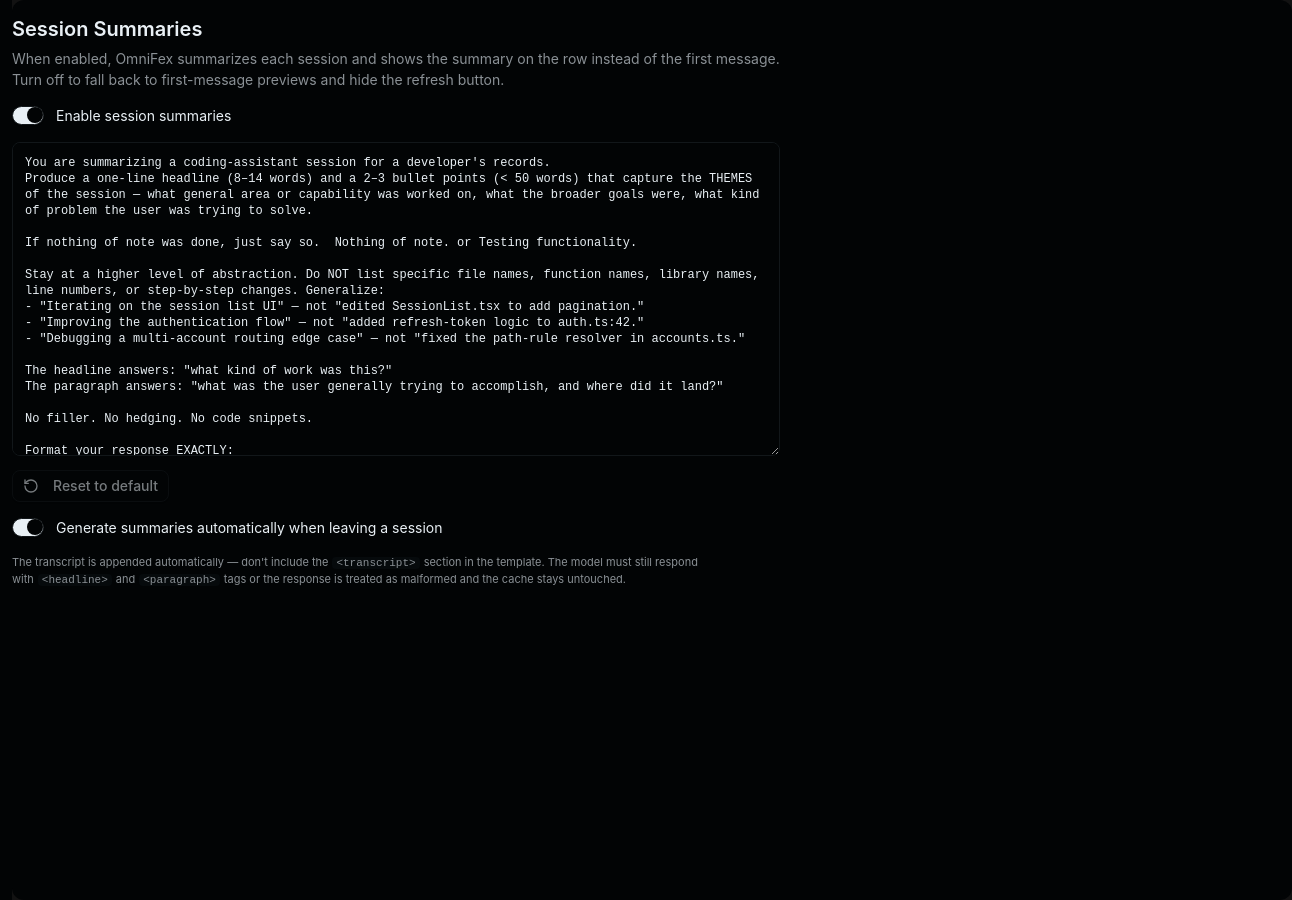
Test case: SummaryPromptSettings › save failures › reports a failed prompt save in the save indicator
Step 1. Replace the text in the text box named "session summary prompt" with "NEW PROMPT" → x=396, y=298, box [12, 142, 780, 456]
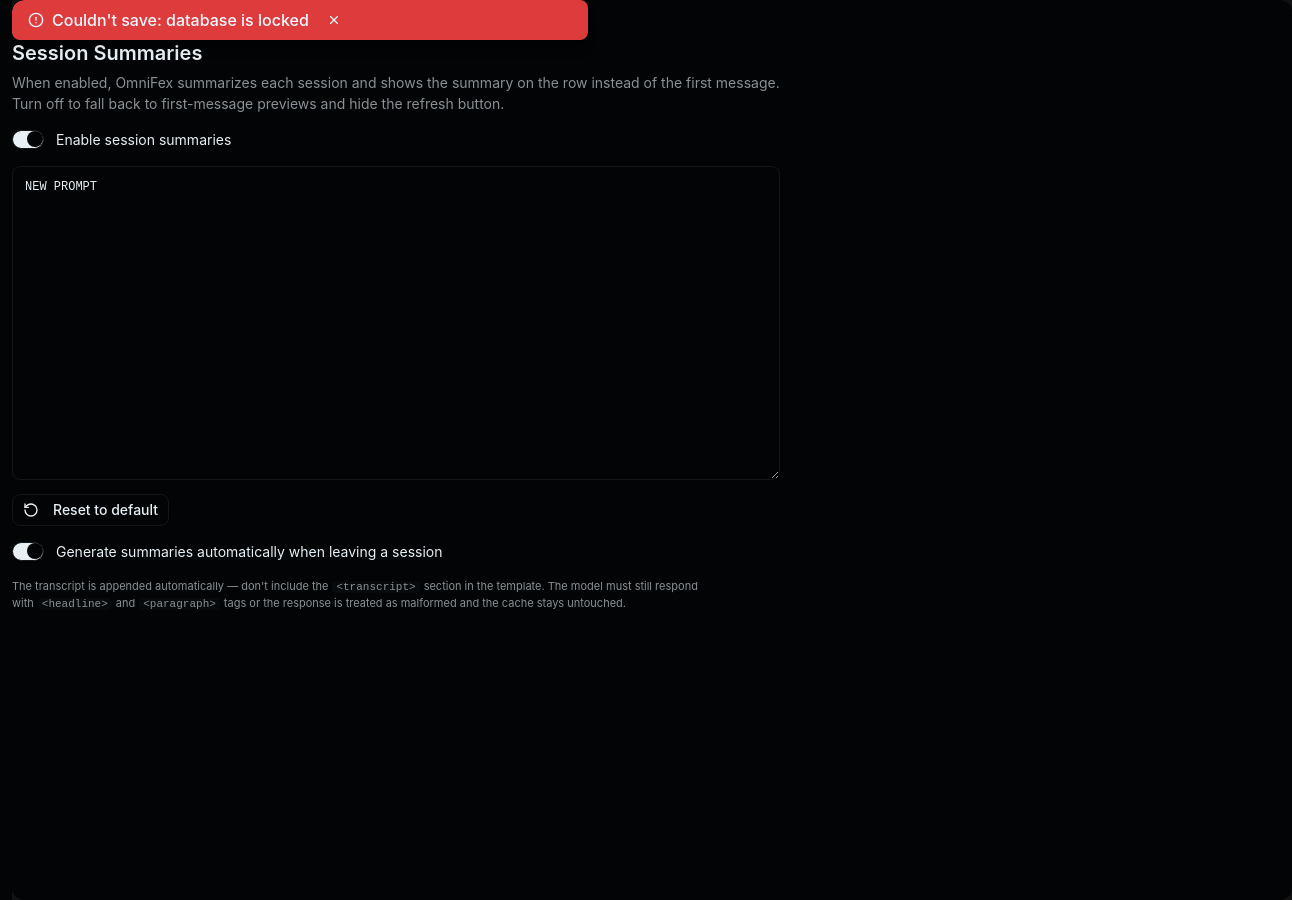
Check: the message shows "database is locked", box [166, 10, 309, 30]
